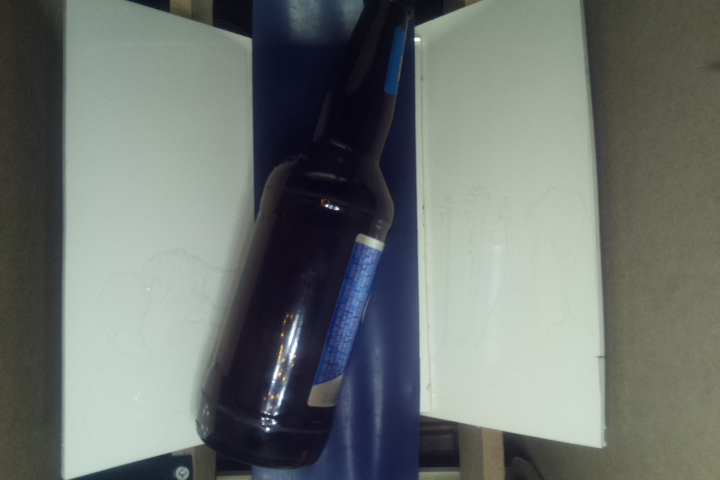makju: (194, 1, 419, 471)
